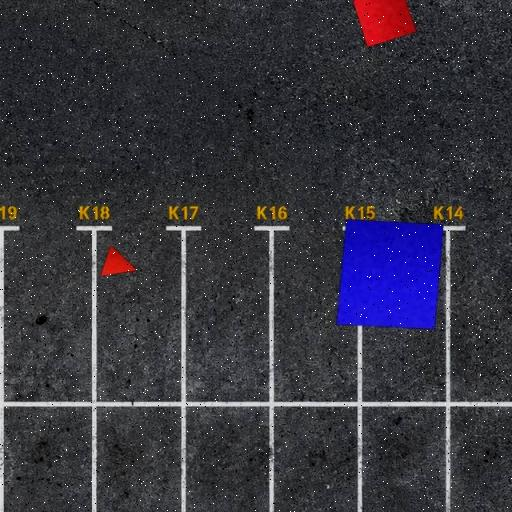BLUE_SQUARE: (336, 218, 445, 330)
RED_SQUARE: (352, 0, 418, 48)
